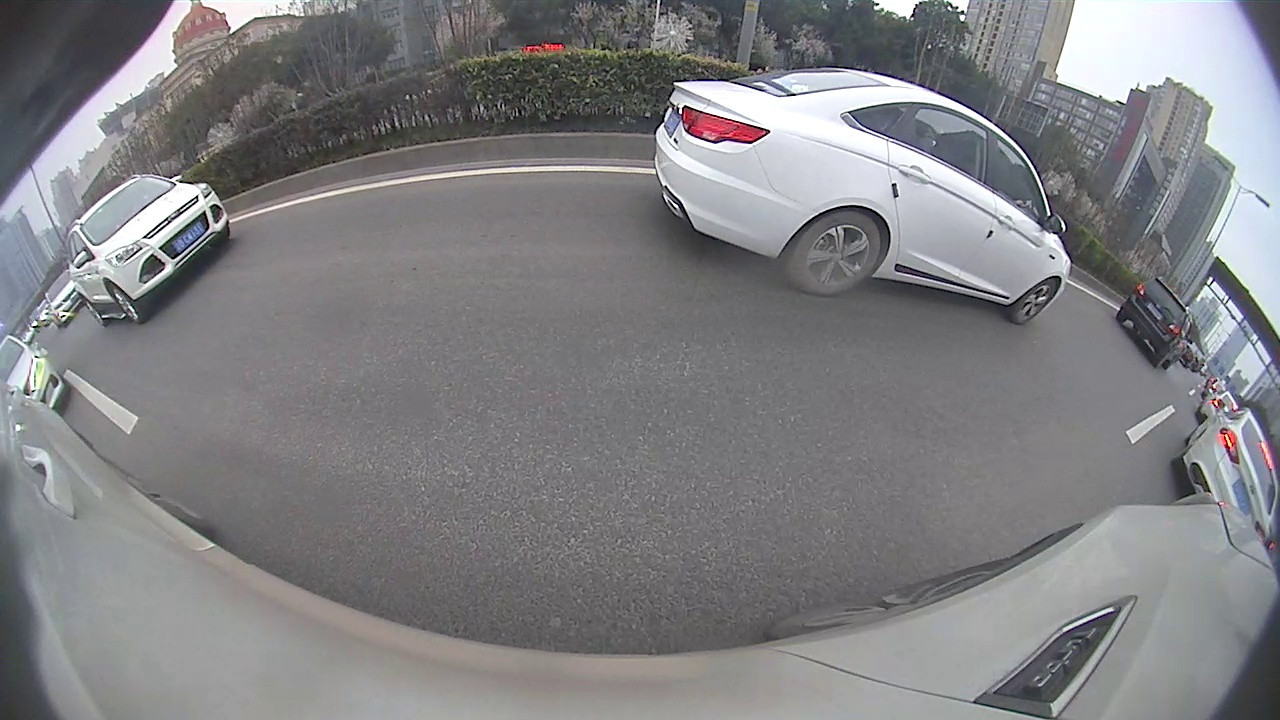car: (652, 65, 1074, 325), (63, 172, 233, 327), (1172, 399, 1279, 544), (1115, 275, 1197, 372), (1, 331, 68, 419)
front: (1012, 278, 1057, 325), (108, 284, 142, 325)
rear: (784, 209, 883, 300)
